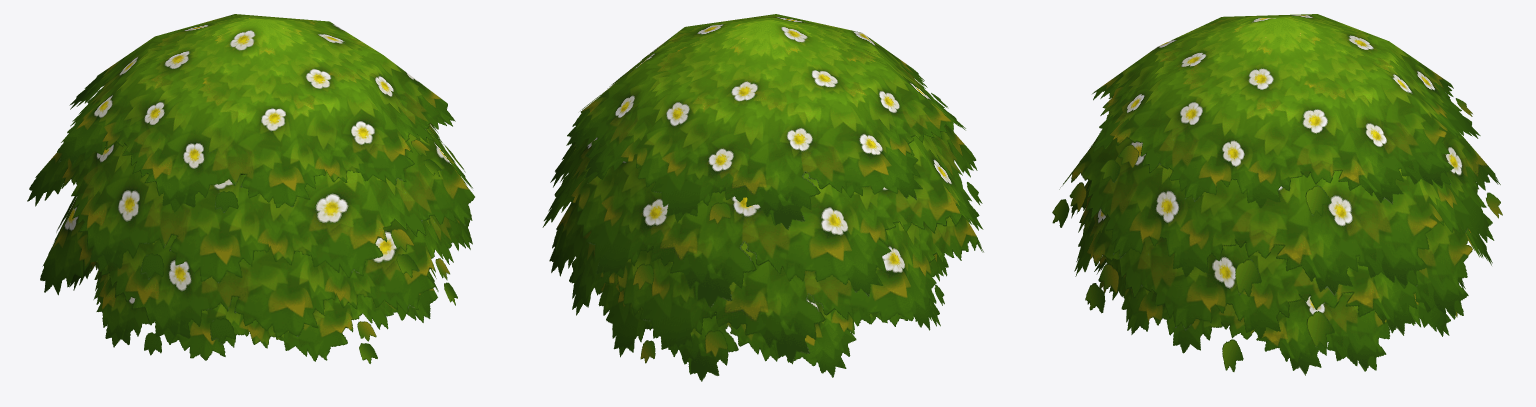
File: bush-flowers.fbx
The picture shows the model from 3 angles, left to right: view 1: azimuth 30°, elevation 25°; view 2: azimuth 150°, elevation 25°; view 3: azimuth 270°, elevation 25°; orthographic projection.
Parts seen in each view (by area): view 1: BUSH_TREE1_4, BUSH_TREE1_2, BUSH_TREE1_1, BUSH_TREE1; view 2: BUSH_TREE1_4, BUSH_TREE1_2, BUSH_TREE1_1, BUSH_TREE1; view 3: BUSH_TREE1_4, BUSH_TREE1_2, BUSH_TREE1_1, BUSH_TREE1.
Boxes of the visible parts, <box> form: BUSH_TREE1_4: <box>57,14,455,212</box>; BUSH_TREE1_2: <box>27,123,474,283</box>; BUSH_TREE1_1: <box>40,195,472,344</box>; BUSH_TREE1: <box>69,174,438,363</box>; BUSH_TREE1_4: <box>566,14,965,230</box>; BUSH_TREE1_2: <box>542,125,983,308</box>; BUSH_TREE1_1: <box>549,195,983,364</box>; BUSH_TREE1: <box>598,172,948,381</box>; BUSH_TREE1_4: <box>1092,14,1480,216</box>; BUSH_TREE1_2: <box>1052,127,1502,296</box>; BUSH_TREE1_1: <box>1071,180,1492,348</box>; BUSH_TREE1: <box>1087,255,1465,375</box>.
Size of the model in its own units: 111 by 72.32 by 111.
Materials: 1 (1 with a texture image).
